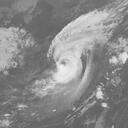cyclone: (48, 30, 85, 85)
